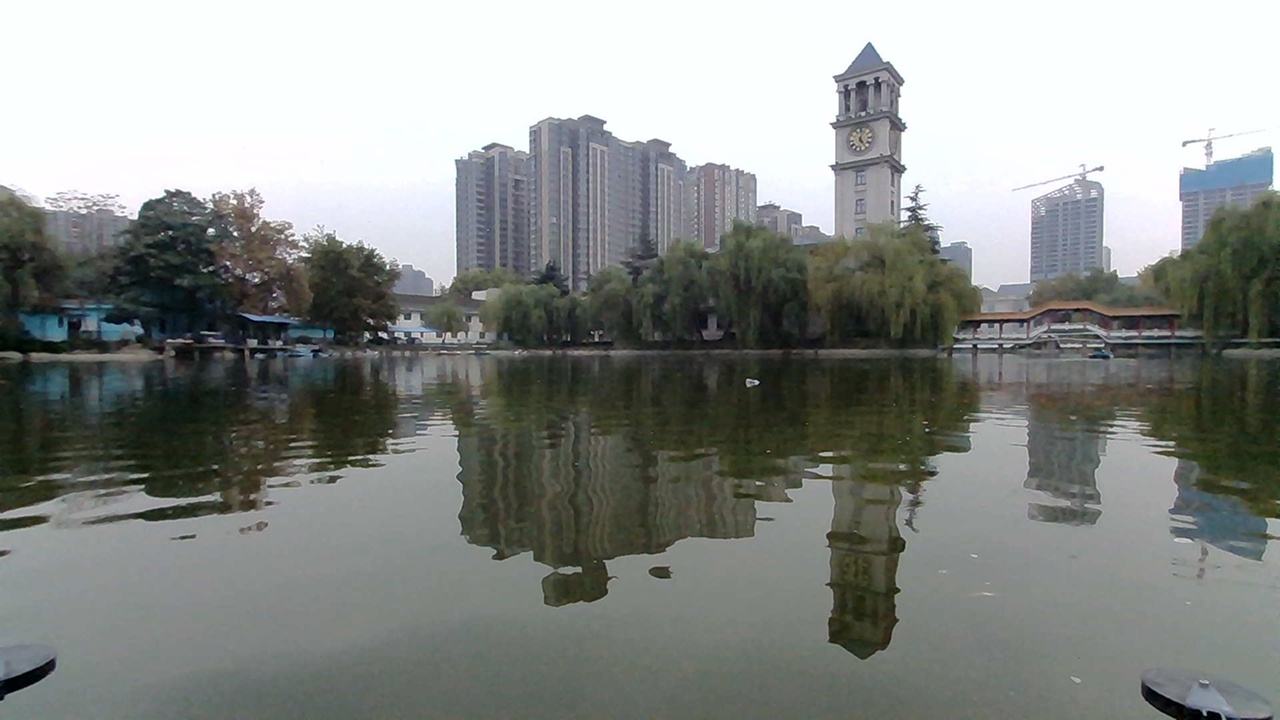bottle: (729, 363, 768, 393)
